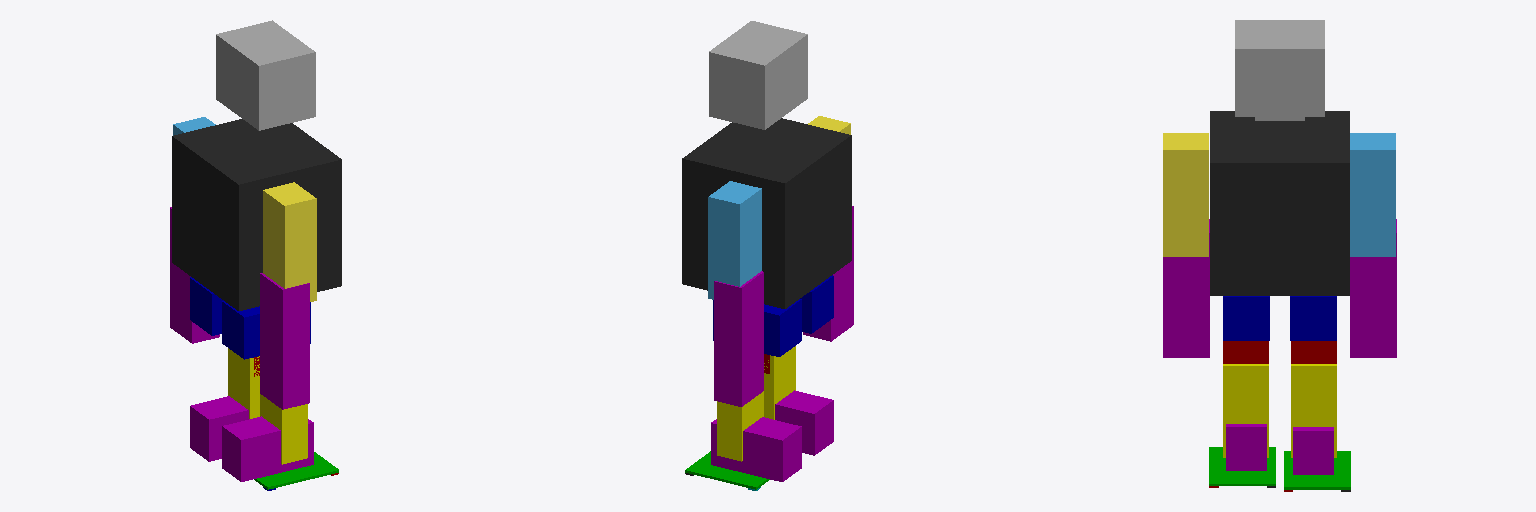
--- Facts derived from the render (not from the file) ---
The picture shows the robot from 3 angles, left to right: view 1: azimuth 30°, elevation 25°; view 2: azimuth 150°, elevation 25°; view 3: azimuth 270°, elevation 25°; orthographic projection.
Model soccerbot with 29 links and 28 joints (18 revolute, 10 fixed), rooted at /torso, posed all joints at 0.
Links seen in each view (by area): view 1: /torso, /head, /right_forearm, /right_bicep, /right_ankle, /left_ankle, /right_calve, /right_hip_front, /left_forearm, /left_calve, /left_hip_front, /right_foot; view 2: /torso, /head, /left_forearm, /left_bicep, /left_ankle, /right_ankle, /left_calve, /left_hip_front, /right_forearm, /right_calve, /right_hip_front, /left_foot; view 3: /torso, /head, /left_bicep, /right_bicep, /left_forearm, /right_forearm, /left_calve, /right_calve, /left_hip_front, /right_hip_front, /left_ankle, /right_ankle (+4 smaller).
Link boxes in pixels (x1,y1,x2,y2): /torso: (172, 119, 341, 310); /head: (216, 20, 315, 130); /right_forearm: (260, 273, 309, 409); /right_bicep: (263, 182, 316, 301); /right_ankle: (222, 416, 313, 481); /left_ankle: (190, 396, 248, 461); /right_calve: (260, 394, 307, 464); /right_hip_front: (222, 301, 310, 359); /left_forearm: (170, 207, 219, 343); /left_calve: (228, 348, 259, 418); /left_hip_front: (190, 277, 223, 335); /right_foot: (254, 452, 338, 489); /torso: (682, 118, 851, 308); /head: (709, 21, 807, 129); /left_forearm: (714, 271, 763, 406); /left_bicep: (708, 181, 761, 299); /left_ankle: (711, 417, 801, 481); /right_ankle: (775, 390, 833, 455); /left_calve: (717, 391, 763, 461); /left_hip_front: (713, 299, 801, 356); /right_forearm: (803, 206, 853, 341); /right_calve: (764, 346, 795, 419); /right_hip_front: (800, 275, 833, 333); /left_foot: (685, 451, 769, 489); /torso: (1210, 111, 1349, 295); /head: (1235, 20, 1324, 116); /left_bicep: (1350, 133, 1395, 256); /right_bicep: (1163, 133, 1208, 256); /left_forearm: (1350, 219, 1396, 357); /right_forearm: (1163, 219, 1209, 357); /left_calve: (1291, 364, 1336, 457); /right_calve: (1223, 364, 1268, 457); /left_hip_front: (1290, 296, 1336, 340); /right_hip_front: (1223, 296, 1269, 340); /left_ankle: (1293, 427, 1333, 474); /right_ankle: (1226, 424, 1266, 470).
Bounding box of the posed robot: 0.13 × 0.245 × 0.5022 m (x, y, z).
Geometry: primitives only (box / cylinder / sphere), no mesh files.

The robot description file, URDF, robot "soccerbot":
<?xml version="1.0" ?>
<!-- =================================================================================== -->
<!-- |    This document was autogenerated by xacro from models/soccerbot.xacro         | -->
<!-- |    EDITING THIS FILE BY HAND IS NOT RECOMMENDED                                 | -->
<!-- =================================================================================== -->
<robot name="soccerbot">
  <material name="silver">
    <color rgba="0.7 0.7 0.7 1.0"/>
  </material>
  <material name="yellow">
    <color rgba="0.9 0.9 0.0 1.0"/>
  </material>
  <material name="red">
    <color rgba="0.7 0.0 0.0 1.0"/>
  </material>
  <material name="green">
    <color rgba="0.0 0.7 0.0 1.0"/>
  </material>
  <material name="blue">
    <color rgba="0.0 0.0 0.7 1.0"/>
  </material>
  <material name="purple">
    <color rgba="0.7 0.0 0.7 1.0"/>
  </material>
  <material name="cyan">
    <color rgba="0.0 0.7 0.7 1.0"/>
  </material>
  <material name="black">
    <color rgba="0.2 0.2 0.2 1.0"/>
  </material>
  <link name="/torso">
    <inertial>
      <mass value="1.529"/>
      <origin rpy="0 0 0" xyz="0.0082498 -0.0017440 -0.0522479"/>
      <inertia ixx="4.323e-3" ixy="5.549e-6" ixz="3.960e-5" iyy="5.198e-3" iyz="-1.509e-5" izz="3.567e-3"/>
    </inertial>
    <collision name="collision">
      <origin rpy="0 0 0" xyz="0 0 -0.052"/>
      <geometry>
        <box size="0.130 0.145 0.152"/>
      </geometry>
    </collision>
    <visual name="visual">
      <origin rpy="0 0 0" xyz="0 0 -0.052"/>
      <geometry>
        <box size="0.130 0.145 0.152"/>
      </geometry>
      <material name="black"/>
    </visual>
  </link>
  <link name="/left_bicep">
    <inertial>
      <mass value="0.000213"/>
      <origin rpy="0  0  0" xyz="0.000 0.02579 -0.04955"/>
      <inertia ixx="2.824e-4" ixy="0.000" ixz="0.0" iyy="2.744e-4" iyz="1.165e-05" izz="2.433e-5"/>
    </inertial>
    <collision name="collision">
      <origin rpy="0  0  0" xyz="0 0.0245 -0.05001"/>
      <geometry>
        <box size="0.04 0.04776 0.123"/>
      </geometry>
    </collision>
    <visual name="visual">
      <origin rpy="0  0  0" xyz="0 0.0245 -0.05001"/>
      <geometry>
        <box size="0.04 0.04776 0.123"/>
      </geometry>
      <material name="white"/>
    </visual>
  </link>
  <link name="/left_forearm">
    <inertial>
      <mass value="45.7e-3"/>
      <origin rpy="0  0  0" xyz="0 0.0245 -0.0546097"/>
      <inertia ixx="0.113e-3" ixy="0.000" ixz="1e-06" iyy="0.107e-3" iyz="0.0" izz="0.012e-3"/>
    </inertial>
    <collision name="collision">
      <origin rpy="0  0  0" xyz="-0.0055 0.0255 -0.0600"/>
      <geometry>
        <box size="0.035 0.049 0.144"/>
      </geometry>
    </collision>
    <visual name="visual">
      <origin rpy="0  0  0" xyz="-0.0055 0.0255 -0.0600"/>
      <geometry>
        <box size="0.035 0.049 0.144"/>
      </geometry>
      <material name="purple"/>
    </visual>
  </link>
  <joint name="left_arm_motor_0" type="revolute">
    <parent link="/torso"/>
    <child link="/left_bicep"/>
    <origin rpy="0 0 0" xyz="-0.0157 0.0725 0"/>
    <axis xyz="0 -1 0"/>
    <dynamics damping="0.01" friction="0.1"/>
    <limit effort="1.5" lower="-1.5707963267948966" upper="3.9269908169872414" velocity="1"/>
  </joint>
  <joint name="left_arm_motor_1" type="revolute">
    <parent link="/left_bicep"/>
    <child link="/left_forearm"/>
    <origin rpy="0 0 0" xyz="0 0 -0.10"/>
    <axis xyz="0 -1 0"/>
    <dynamics damping="0.01" friction="0.1"/>
    <limit effort="1.5" lower="0" upper="3.141592653589793" velocity="1"/>
  </joint>
  <gazebo reference="/left_forearm">
    <mu1>0.2</mu1>
    <mu2>0.2</mu2>
  </gazebo>
  <transmission name="left_arm_motor_0">
    <type>transmission_interface/SimpleTransmission</type>
    <joint name="left_arm_motor_0">
      <hardwareInterface>hardware_interface/EffortJointInterface</hardwareInterface>
    </joint>
    <actuator name="left_arm_motor_0">
      <hardwareInterface>hardware_interface/EffortJointInterface</hardwareInterface>
      <mechanicalReduction>1</mechanicalReduction>
    </actuator>
  </transmission>
  <transmission name="left_arm_motor_1">
    <type>transmission_interface/SimpleTransmission</type>
    <joint name="left_arm_motor_1">
      <hardwareInterface>hardware_interface/EffortJointInterface</hardwareInterface>
    </joint>
    <actuator name="left_arm_motor_1">
      <hardwareInterface>hardware_interface/EffortJointInterface</hardwareInterface>
      <mechanicalReduction>1</mechanicalReduction>
    </actuator>
  </transmission>
  <gazebo reference="/left_bicep">
    <kp>1000000000000000.0</kp>
    <kd>10000000000000.0</kd>
    <mu1>0.2</mu1>
    <mu2>0.2</mu2>
  </gazebo>
  <gazebo reference="/left_forearm">
    <kp>1000000000000000.0</kp>
    <kd>10000000000000.0</kd>
    <mu1>0.2</mu1>
    <mu2>0.2</mu2>
  </gazebo>
  <link name="/right_bicep">
    <inertial>
      <mass value="0.213e-3"/>
      <origin rpy="0  0  0" xyz="0.000 -0.02579 -0.04955"/>
      <inertia ixx="2.824e-4" ixy="0.000" ixz="-0.0" iyy="2.744e-4" iyz="-1.165e-05" izz="2.433e-5"/>
    </inertial>
    <collision name="collision">
      <origin rpy="0  0  0" xyz="0 -0.0255 -0.05001"/>
      <geometry>
        <box size="0.04 0.04776 0.123"/>
      </geometry>
    </collision>
    <visual name="visual">
      <origin rpy="0  0  0" xyz="0 -0.0255 -0.05001"/>
      <geometry>
        <box size="0.04 0.04776 0.123"/>
      </geometry>
      <material name="white"/>
    </visual>
  </link>
  <link name="/right_forearm">
    <inertial>
      <mass value="45.7e-3"/>
      <origin rpy="0  0  0" xyz="0 -0.0245 -0.0546097"/>
      <inertia ixx="0.113e-3" ixy="0.000" ixz="-1e-06" iyy="0.107e-3" iyz="-0.0" izz="0.012e-3"/>
    </inertial>
    <collision name="collision">
      <origin rpy="0  0  0" xyz="-0.0055 -0.0255 -0.0600"/>
      <geometry>
        <box size="0.035 0.049 0.144"/>
      </geometry>
    </collision>
    <visual name="visual">
      <origin rpy="0  0  0" xyz="-0.0055 -0.0255 -0.0600"/>
      <geometry>
        <box size="0.035 0.049 0.144"/>
      </geometry>
      <material name="purple"/>
    </visual>
  </link>
  <joint name="right_arm_motor_0" type="revolute">
    <parent link="/torso"/>
    <child link="/right_bicep"/>
    <origin rpy="0 0 0" xyz="-0.0157 -0.0725 0"/>
    <axis xyz="0 -1 0"/>
    <dynamics damping="0.01" friction="0.1"/>
    <limit effort="1.5" lower="-1.5707963267948966" upper="3.9269908169872414" velocity="1"/>
  </joint>
  <joint name="right_arm_motor_1" type="revolute">
    <parent link="/right_bicep"/>
    <child link="/right_forearm"/>
    <origin rpy="0 0 0" xyz="0 0 -0.10"/>
    <axis xyz="0 -1 0"/>
    <dynamics damping="0.01" friction="0.1"/>
    <limit effort="1.5" lower="0" upper="3.141592653589793" velocity="1"/>
  </joint>
  <gazebo reference="/right_forearm">
    <mu1>0.2</mu1>
    <mu2>0.2</mu2>
  </gazebo>
  <transmission name="right_arm_motor_0">
    <type>transmission_interface/SimpleTransmission</type>
    <joint name="right_arm_motor_0">
      <hardwareInterface>hardware_interface/EffortJointInterface</hardwareInterface>
    </joint>
    <actuator name="right_arm_motor_0">
      <hardwareInterface>hardware_interface/EffortJointInterface</hardwareInterface>
      <mechanicalReduction>1</mechanicalReduction>
    </actuator>
  </transmission>
  <transmission name="right_arm_motor_1">
    <type>transmission_interface/SimpleTransmission</type>
    <joint name="right_arm_motor_1">
      <hardwareInterface>hardware_interface/EffortJointInterface</hardwareInterface>
    </joint>
    <actuator name="right_arm_motor_1">
      <hardwareInterface>hardware_interface/EffortJointInterface</hardwareInterface>
      <mechanicalReduction>1</mechanicalReduction>
    </actuator>
  </transmission>
  <gazebo reference="/right_bicep">
    <kp>1000000000000000.0</kp>
    <kd>10000000000000.0</kd>
    <mu1>0.2</mu1>
    <mu2>0.2</mu2>
  </gazebo>
  <gazebo reference="/right_forearm">
    <kp>1000000000000000.0</kp>
    <kd>10000000000000.0</kd>
    <mu1>0.2</mu1>
    <mu2>0.2</mu2>
  </gazebo>
  <link name="/left_hip_side">
    <inertial>
      <mass value="9.364e-3"/>
      <origin rpy="0  0  0" xyz="0.0003695 0.0000 0.01689"/>
      <inertia ixx="0.002e-3" ixy="0.000" ixz="0.000" iyy="0.005e-3" iyz="0.000" izz="0.004e-3"/>
    </inertial>
    <collision name="collision">
      <origin rpy="0  0  0" xyz="0 0 0.03"/>
      <geometry>
        <box size="0.0485 0.022 0.00005"/>
      </geometry>
    </collision>
    <visual name="visual">
      <origin rpy="0  0  0" xyz="0 0 0.03"/>
      <geometry>
        <box size="0.0485 0.022 0.00005"/>
      </geometry>
      <material name="cyan"/>
    </visual>
  </link>
  <link name="/left_hip_front">
    <inertial>
      <mass value="153.186e-3"/>
      <origin rpy="0 0 0" xyz="-0.02093 0 -0.011313"/>
      <inertia ixx="0.041e-3" ixy="0.000" ixz="-0.002e-3" iyy="0.118e-3" iyz="0.000" izz="0.106e-3"/>
    </inertial>
    <collision name="collision">
      <origin rpy="0 0 0" xyz="-0.02187 0 -0.01332"/>
      <geometry>
        <box size="0.083747 0.04885 0.0506"/>
      </geometry>
    </collision>
    <visual name="visual">
      <origin rpy="0 0 0" xyz="-0.02187 0 -0.01332"/>
      <geometry>
        <box size="0.083747 0.04885 0.0506"/>
      </geometry>
      <material name="blue"/>
    </visual>
  </link>
  <link name="/left_thigh">
    <inertial>
      <mass value="21.438e-3"/>
      <origin rpy="0 0 0" xyz="0.0019422 0.0001419 -0.0469409"/>
      <inertia ixx="0.025e-3" ixy="2e-06" ixz="0.000" iyy="0.016e-3" iyz="0.000" izz="0.010e-3"/>
    </inertial>
    <collision name="collision">
      <origin rpy="0 0 0" xyz="0 0 -0.0445"/>
      <geometry>
        <box size="0.022 0.048 0.111"/>
      </geometry>
    </collision>
    <visual name="visual">
      <origin rpy="0 0 0" xyz="0 0 -0.0445"/>
      <geometry>
        <box size="0.022 0.048 0.111"/>
      </geometry>
      <material name="red"/>
    </visual>
  </link>
  <link name="/left_calve">
    <inertial>
      <mass value="86.547e-3"/>
      <origin rpy="0  0  0" xyz="0 -3.259e-07 -0.0150123e-3"/>
      <inertia ixx="0.054e-3" ixy="0.000" ixz="0.000" iyy="0.046e-3" iyz="-0.001e-3" izz="0.019e-3"/>
    </inertial>
    <collision name="collision">
      <origin rpy="0 0 0" xyz="0 0 -0.03385"/>
      <geometry>
        <box size="0.031883 0.048 0.105683"/>
      </geometry>
    </collision>
    <visual name="visual">
      <origin rpy="0 0 0" xyz="0 0 -0.03385"/>
      <geometry>
        <box size="0.031883 0.048 0.105683"/>
      </geometry>
      <material name="yellow"/>
    </visual>
  </link>
  <link name="/left_ankle">
    <inertial>
      <mass value="153.186e-3"/>
      <origin rpy="0 0 0" xyz="-0.020939e-3 0.000 0.011313e-3"/>
      <inertia ixx="0.041e-3" ixy="0.000" ixz="0.002e-3" iyy="0.118e-3" iyz="0.000" izz="0.106e-3"/>
    </inertial>
    <collision name="collision">
      <origin rpy="0 0 0" xyz="-0.02014 0 0.01031"/>
      <geometry>
        <box size="0.090769 0.042 0.0506"/>
      </geometry>
    </collision>
    <visual name="visual">
      <origin rpy="0 0 0" xyz="-0.02014 0 0.01031"/>
      <geometry>
        <box size="0.090769 0.042 0.0506"/>
      </geometry>
      <material name="purple"/>
    </visual>
  </link>
  <link name="/left_foot">
    <inertial>
      <mass value="23.216e-3"/>
      <origin rpy="0 0 0" xyz="-0.020939 0.0 0.011313"/>
      <inertia ixx="0.006e-3" ixy="0.000" ixz="0.000" iyy="0.018e-3" iyz="0.000" izz="0.022e-3"/>
    </inertial>
    <collision name="collision">
      <origin rpy="0 0 0" xyz="0.00225 0.00401 -0.0205 "/>
      <geometry>
        <box size="0.09 0.07 0.003"/>
      </geometry>
      <contact_coefficients mu="100.0"/>
    </collision>
    <visual name="visual">
      <origin rpy="0 0 0" xyz="0.00225 0.00401 -0.0205 "/>
      <geometry>
        <box size="0.09 0.07 0.003"/>
      </geometry>
      <material name="green"/>
    </visual>
  </link>
  <link name="/left_foot_cleat_4">
    <inertial>
      <mass value="5e-3"/>
      <origin rpy="0 0 0" xyz="-0.020939 0.0 0.011313"/>
      <inertia ixx="0" ixy="0.000" ixz="0.000" iyy="0" iyz="0.000" izz="0"/>
    </inertial>
    <collision name="collision">
      <origin rpy="0 0 0" xyz="0.04225 0.034 -0.023"/>
      <geometry>
        <box size="0.01 0.01 0.002"/>
      </geometry>
      <contact_coefficients mu="100.0"/>
    </collision>
    <visual name="visual">
      <origin rpy="0 0 0" xyz="0.04225 0.034 -0.023"/>
      <geometry>
        <box size="0.01 0.01 0.002"/>
      </geometry>
      <material name="black"/>
    </visual>
  </link>
  <link name="/left_foot_cleat_5">
    <inertial>
      <mass value="5e-3"/>
      <origin rpy="0 0 0" xyz="-0.020939 0.0 0.011313"/>
      <inertia ixx="0" ixy="0.000" ixz="0.000" iyy="0" iyz="0.000" izz="0"/>
    </inertial>
    <collision name="collision">
      <origin rpy="0 0 0" xyz="0.04225 -0.026 -0.023"/>
      <geometry>
        <box size="0.01 0.01 0.002"/>
      </geometry>
      <contact_coefficients mu="100.0"/>
    </collision>
    <visual name="visual">
      <origin rpy="0 0 0" xyz="0.04225 -0.026 -0.023"/>
      <geometry>
        <box size="0.01 0.01 0.002"/>
      </geometry>
      <material name="red"/>
    </visual>
  </link>
  <link name="/left_foot_cleat_6">
    <inertial>
      <mass value="5e-3"/>
      <origin rpy="0 0 0" xyz="-0.020939 0.0 0.011313"/>
      <inertia ixx="0" ixy="0.000" ixz="0.000" iyy="0" iyz="0.000" izz="0"/>
    </inertial>
    <collision name="collision">
      <origin rpy="0 0 0" xyz="-0.0375 0.034 -0.023"/>
      <geometry>
        <box size="0.01 0.01 0.002"/>
      </geometry>
      <contact_coefficients mu="100.0"/>
    </collision>
    <visual name="visual">
      <origin rpy="0 0 0" xyz="-0.0375 0.034 -0.023"/>
      <geometry>
        <box size="0.01 0.01 0.002"/>
      </geometry>
      <material name="cyan"/>
    </visual>
  </link>
  <link name="/left_foot_cleat_7">
    <inertial>
      <mass value="5e-3"/>
      <origin rpy="0 0 0" xyz="-0.020939 0.0 0.011313"/>
      <inertia ixx="0" ixy="0.000" ixz="0.000" iyy="0" iyz="0.000" izz="0"/>
    </inertial>
    <collision name="collision">
      <origin rpy="0 0 0" xyz="-0.0375 -0.026 -0.023"/>
      <geometry>
        <box size="0.01 0.01 0.002"/>
      </geometry>
      <contact_coefficients mu="100.0"/>
    </collision>
    <visual name="visual">
      <origin rpy="0 0 0" xyz="-0.0375 -0.026 -0.023"/>
      <geometry>
        <box size="0.01 0.01 0.002"/>
      </geometry>
      <material name="blue"/>
    </visual>
  </link>
  <joint name="left_leg_motor_0" type="revolute">
    <parent link="/torso"/>
    <child link="/left_hip_side"/>
    <origin rpy="0 0 0" xyz="0.0135 0.035 -0.156"/>
    <axis xyz="0 0 -1"/>
    <dynamics damping="0.01" friction="0.1"/>
    <limit effort="2.5" lower="-1.309" upper="0.524" velocity="1"/>
  </joint>
  <joint name="left_leg_motor_1" type="revolute">
    <parent link="/left_hip_side"/>
    <child link="/left_hip_front"/>
    <origin rpy="0 0 0" xyz="0 0 0"/>
    <axis xyz="1 0 0"/>
    <dynamics damping="0.01" friction="0.1"/>
    <limit effort="2.5" lower="-0.7853981633974483" upper="1.5707963267948966" velocity="1"/>
  </joint>
  <joint name="left_leg_motor_2" type="revolute">
    <parent link="/left_hip_front"/>
    <child link="/left_thigh"/>
    <origin rpy="0 0 0" xyz="0 0 0"/>
    <axis xyz="0 -1 0"/>
    <dynamics damping="0.01" friction="0.1"/>
    <limit effort="2.5" lower="-0.7853981633974483" upper="2.356194490192345" velocity="1"/>
  </joint>
  <joint name="left_leg_motor_3" type="revolute">
    <parent link="/left_thigh"/>
    <child link="/left_calve"/>
    <origin rpy="0 0 0" xyz="0 0 -0.0890"/>
    <axis xyz="0 -1 0"/>
    <dynamics damping="0.01" friction="0.1"/>
    <limit effort="2.5" lower="-2.793" upper="0" velocity="1"/>
  </joint>
  <joint name="left_leg_motor_4" type="revolute">
    <parent link="/left_calve"/>
    <child link="/left_ankle"/>
    <origin rpy="0 0 0" xyz="0 0 -0.0865"/>
    <axis xyz="0 -1 0"/>
    <dynamics damping="0.01" friction="0.1"/>
    <limit effort="2.5" lower="-0.7853981633974483" upper="1.5707963267948966" velocity="1"/>
  </joint>
  <joint name="left_leg_motor_5" type="revolute">
    <parent link="/left_ankle"/>
    <child link="/left_foot"/>
    <origin rpy="0 0 0" xyz="0 0 0"/>
    <axis xyz="1 0 0"/>
    <dynamics damping="0.01" friction="0.1"/>
    <limit effort="2.5" lower="-0.7853981633974483" upper="0.7853981633974483" velocity="1"/>
  </joint>
  <joint name="/left_foot_cleat_4" type="fixed">
    <parent link="/left_foot"/>
    <child link="/left_foot_cleat_4"/>
    <origin rpy="0 0 0" xyz="0.0 0 0.0"/>
    <axis xyz="0 0 0"/>
  </joint>
  <joint name="/left_foot_cleat_5" type="fixed">
    <parent link="/left_foot"/>
    <child link="/left_foot_cleat_5"/>
    <origin rpy="0 0 0" xyz="0.0 0 0.0"/>
    <axis xyz="0 0 0"/>
  </joint>
  <joint name="/left_foot_cleat_6" type="fixed">
    <parent link="/left_foot"/>
    <child link="/left_foot_cleat_6"/>
    <origin rpy="0 0 0" xyz="0.0 0 0.0"/>
    <axis xyz="0 0 0"/>
  </joint>
  <joint name="/left_foot_cleat_7" type="fixed">
    <parent link="/left_foot"/>
    <child link="/left_foot_cleat_7"/>
    <origin rpy="0 0 0" xyz="0.0 0 0.0"/>
    <axis xyz="0 0 0"/>
  </joint>
  <transmission name="left_leg_motor_0">
    <type>transmission_interface/SimpleTransmission</type>
    <joint name="left_leg_motor_0">
      <hardwareInterface>hardware_interface/EffortJointInterface</hardwareInterface>
    </joint>
    <actuator name="left_leg_motor_0">
      <hardwareInterface>hardware_interface/EffortJointInterface</hardwareInterface>
      <mechanicalReduction>1</mechanicalReduction>
    </actuator>
  </transmission>
  <transmission name="left_leg_motor_1">
    <type>transmission_interface/SimpleTransmission</type>
    <joint name="left_leg_motor_1">
      <hardwareInterface>hardware_interface/EffortJointInterface</hardwareInterface>
    </joint>
    <actuator name="left_leg_motor_1">
      <hardwareInterface>hardware_interface/EffortJointInterface</hardwareInterface>
      <mechanicalReduction>1</mechanicalReduction>
    </actuator>
  </transmission>
  <transmission name="left_leg_motor_2">
    <type>transmission_interface/SimpleTransmission</type>
    <joint name="left_leg_motor_2">
      <hardwareInterface>hardware_interface/EffortJointInterface</hardwareInterface>
    </joint>
    <actuator name="left_leg_motor_2">
      <hardwareInterface>hardware_interface/EffortJointInterface</hardwareInterface>
      <mechanicalReduction>1</mechanicalReduction>
    </actuator>
  </transmission>
  <transmission name="left_leg_motor_3">
    <type>transmission_interface/SimpleTransmission</type>
    <joint name="left_leg_motor_3">
      <hardwareInterface>hardware_interface/EffortJointInterface</hardwareInterface>
    </joint>
    <actuator name="left_leg_motor_3">
      <hardwareInterface>hardware_interface/EffortJointInterface</hardwareInterface>
      <mechanicalReduction>1</mechanicalReduction>
    </actuator>
  </transmission>
  <transmission name="left_leg_motor_4">
    <type>transmission_interface/SimpleTransmission</type>
    <joint name="left_leg_motor_4">
      <hardwareInterface>hardware_interface/EffortJointInterface</hardwareInterface>
    </joint>
    <actuator name="left_leg_motor_4">
      <hardwareInterface>hardware_interface/EffortJointInterface</hardwareInterface>
      <mechanicalReduction>1</mechanicalReduction>
    </actuator>
  </transmission>
  <transmission name="left_leg_motor_5">
    <type>transmission_interface/SimpleTransmission</type>
    <joint name="left_leg_motor_5">
      <hardwareInterface>hardware_interface/EffortJointInterface</hardwareInterface>
    </joint>
    <actuator name="left_leg_motor_5">
      <hardwareInterface>hardware_interface/EffortJointInterface</hardwareInterface>
      <mechanicalReduction>1</mechanicalReduction>
    </actuator>
  </transmission>
  <gazebo reference="/left_hip_side">
    <kp>1000000000000000.0</kp>
    <kd>10000000000000.0</kd>
    <mu1>0.2</mu1>
    <mu2>0.2</mu2>
  </gazebo>
  <gazebo reference="/left_hip_front">
    <kp>1000000000000000.0</kp>
    <kd>10000000000000.0</kd>
    <mu1>0.2</mu1>
    <mu2>0.2</mu2>
  </gazebo>
  <gazebo reference="/left_thigh">
    <kp>1000000000000000.0</kp>
    <kd>10000000000000.0</kd>
    <mu1>0.2</mu1>
    <mu2>0.2</mu2>
  </gazebo>
  <gazebo reference="/left_calve">
    <kp>1000000000000000.0</kp>
    <kd>10000000000000.0</kd>
    <mu1>0.2</mu1>
    <mu2>0.2</mu2>
  </gazebo>
  <gazebo reference="/left_ankle">
    <kp>1000000000000000.0</kp>
    <kd>10000000000000.0</kd>
    <mu1>0.2</mu1>
    <mu2>0.2</mu2>
  </gazebo>
  <gazebo reference="/left_foot">
    <mu1>0.2</mu1>
    <mu2>0.2</mu2>
  </gazebo>
  <link name="/right_hip_side">
    <inertial>
      <mass value="9.364e-3"/>
      <origin rpy="0  0  0" xyz="0.0003695 0.0000 0.01689"/>
      <inertia ixx="0.002e-3" ixy="0.000" ixz="0.000" iyy="0.005e-3" iyz="0.000" izz="0.004e-3"/>
    </inertial>
    <collision name="collision">
      <origin rpy="0  0  0" xyz="0 0 0.03"/>
      <geometry>
        <box size="0.0485 0.022 0.00005"/>
      </geometry>
    </collision>
    <visual name="visual">
      <origin rpy="0  0  0" xyz="0 0 0.03"/>
      <geometry>
        <box size="0.0485 0.022 0.00005"/>
      </geometry>
      <material name="cyan"/>
    </visual>
  </link>
  <link name="/right_hip_front">
    <inertial>
      <mass value="153.186e-3"/>
      <origin rpy="0 0 0" xyz="-0.02093 0 -0.011313"/>
      <inertia ixx="0.041e-3" ixy="0.000" ixz="-0.002e-3" iyy="0.118e-3" iyz="0.000" izz="0.106e-3"/>
    </inertial>
    <collision name="collision">
      <origin rpy="0 0 0" xyz="-0.02187 0 -0.01332"/>
      <geometry>
        <box size="0.083747 0.04885 0.0506"/>
      </geometry>
    </collision>
    <visual name="visual">
      <origin rpy="0 0 0" xyz="-0.02187 0 -0.01332"/>
      <geometry>
        <box size="0.083747 0.04885 0.0506"/>
      </geometry>
      <material name="blue"/>
    </visual>
  </link>
  <link name="/right_thigh">
    <inertial>
      <mass value="21.438e-3"/>
      <origin rpy="0 0 0" xyz="0.0019422 -0.0001419 -0.0469409"/>
      <inertia ixx="0.025e-3" ixy="-2e-06" ixz="0.000" iyy="0.016e-3" iyz="0.000" izz="0.010e-3"/>
    </inertial>
    <collision name="collision">
      <origin rpy="0 0 0" xyz="0 0 -0.0445"/>
      <geometry>
        <box size="0.022 0.048 0.111"/>
      </geometry>
    </collision>
    <visual name="visual">
      <origin rpy="0 0 0" xyz="0 0 -0.0445"/>
      <geometry>
        <box size="0.022 0.048 0.111"/>
      </geometry>
      <material name="red"/>
    </visual>
  </link>
  <link name="/right_calve">
    <inertial>
      <mass value="86.547e-3"/>
      <origin rpy="0  0  0" xyz="0 3.259e-07 -0.0150123e-3"/>
      <inertia ixx="0.054e-3" ixy="0.000" ixz="0.000" iyy="0.046e-3" iyz="-0.001e-3" izz="0.019e-3"/>
    </inertial>
    <collision name="collision">
      <origin rpy="0 0 0" xyz="0 0 -0.03385"/>
      <geometry>
        <box size="0.031883 0.048 0.105683"/>
      </geometry>
    </collision>
    <visual name="visual">
      <origin rpy="0 0 0" xyz="0 0 -0.03385"/>
      <geometry>
        <box size="0.031883 0.048 0.105683"/>
      </geometry>
      <material name="yellow"/>
    </visual>
  </link>
  <link name="/right_ankle">
    <inertial>
      <mass value="153.186e-3"/>
      <origin rpy="0 0 0" xyz="-0.020939e-3 0.000 0.011313e-3"/>
      <inertia ixx="0.041e-3" ixy="0.000" ixz="0.002e-3" iyy="0.118e-3" iyz="0.000" izz="0.106e-3"/>
    </inertial>
    <collision name="collision">
      <origin rpy="0 0 0" xyz="-0.02014 0 0.01031"/>
      <geometry>
        <box size="0.090769 0.042 0.0506"/>
      </geometry>
    </collision>
    <visual name="visual">
      <origin rpy="0 0 0" xyz="-0.02014 0 0.01031"/>
      <geometry>
        <box size="0.090769 0.042 0.0506"/>
      </geometry>
      <material name="purple"/>
    </visual>
  </link>
  <link name="/right_foot">
    <inertial>
      <mass value="23.216e-3"/>
      <origin rpy="0 0 0" xyz="-0.020939 0.0 0.011313"/>
      <inertia ixx="0.006e-3" ixy="0.000" ixz="0.000" iyy="0.018e-3" iyz="0.000" izz="0.022e-3"/>
    </inertial>
    <collision name="collision">
      <origin rpy="0 0 0" xyz="0.00225 -0.00401 -0.0205 "/>
      <geometry>
        <box size="0.09 0.07 0.003"/>
      </geometry>
      <contact_coefficients mu="100.0"/>
    </collision>
    <visual name="visual">
      <origin rpy="0 0 0" xyz="0.00225 -0.00401 -0.0205 "/>
      <geometry>
        <box size="0.09 0.07 0.003"/>
      </geometry>
      <material name="green"/>
    </visual>
  </link>

  <link name="/right_foot_cleat_0">
    <inertial>
      <mass value="5e-3"/>
      <origin rpy="0 0 0" xyz="-0.020939 0.0 0.011313"/>
      <inertia ixx="0" ixy="0.000" ixz="0.000" iyy="0" iyz="0.000" izz="0"/>
    </inertial>
    <collision name="collision">
      <origin rpy="0 0 0" xyz="0.04225 0.026 -0.023"/>
      <geometry>
        <box size="0.01 0.01 0.002"/>
      </geometry>
      <contact_coefficients mu="100.0"/>
    </collision>
    <visual name="visual">
      <origin rpy="0 0 0" xyz="0.04225 0.026 -0.023"/>
      <geometry>
        <box size="0.01 0.01 0.002"/>
      </geometry>
      <material name="black"/>
    </visual>
  </link>
  <link name="/right_foot_cleat_1">
    <inertial>
      <mass value="5e-3"/>
      <origin rpy="0 0 0" xyz="-0.020939 0.0 0.011313"/>
      <inertia ixx="0" ixy="0.000" ixz="0.000" iyy="0" iyz="0.000" izz="0"/>
    </inertial>
    <collision name="collision">
      <origin rpy="0 0 0" xyz="0.04225 -0.034 -0.023"/>
      <geometry>
        <box size="0.01 0.01 0.002"/>
      </geometry>
      <contact_coefficients mu="100.0"/>
    </collision>
    <visual name="visual">
      <origin rpy="0 0 0" xyz="0.04225 -0.034 -0.023"/>
      <geometry>
        <box size="0.01 0.01 0.002"/>
      </geometry>
      <material name="red"/>
    </visual>
  </link>
  <link name="/right_foot_cleat_2">
    <inertial>
      <mass value="5e-3"/>
      <origin rpy="0 0 0" xyz="-0.020939 0.0 0.011313"/>
      <inertia ixx="0" ixy="0.000" ixz="0.000" iyy="0" iyz="0.000" izz="0"/>
    </inertial>
    <collision name="collision">
      <origin rpy="0 0 0" xyz="-0.0375 0.026 -0.023"/>
      <geometry>
        <box size="0.01 0.01 0.002"/>
      </geometry>
      <contact_coefficients mu="100.0"/>
    </collision>
    <visual name="visual">
      <origin rpy="0 0 0" xyz="-0.0375 0.026 -0.023"/>
      <geometry>
        <box size="0.01 0.01 0.002"/>
      </geometry>
      <material name="cyan"/>
    </visual>
  </link>
  <link name="/right_foot_cleat_3">
    <inertial>
      <mass value="5e-3"/>
      <origin rpy="0 0 0" xyz="-0.020939 0.0 0.011313"/>
      <inertia ixx="0" ixy="0.000" ixz="0.000" iyy="0" iyz="0.000" izz="0"/>
    </inertial>
    <collision name="collision">
      <origin rpy="0 0 0" xyz="-0.0375 -0.034 -0.023"/>
      <geometry>
        <box size="0.01 0.01 0.002"/>
      </geometry>
      <contact_coefficients mu="100.0"/>
    </collision>
    <visual name="visual">
      <origin rpy="0 0 0" xyz="-0.0375 -0.034 -0.023"/>
      <geometry>
        <box size="0.01 0.01 0.002"/>
      </geometry>
      <material name="blue"/>
    </visual>
  </link>
  <joint name="right_leg_motor_0" type="revolute">
    <parent link="/torso"/>
    <child link="/right_hip_side"/>
    <origin rpy="0 0 0" xyz="0.0135 -0.035 -0.156"/>
    <axis xyz="0 0 1"/>
    <dynamics damping="0.01" friction="0.1"/>
    <limit effort="2.5" lower="-1.309" upper="0.524" velocity="1"/>
  </joint>
  <joint name="right_leg_motor_1" type="revolute">
    <parent link="/right_hip_side"/>
    <child link="/right_hip_front"/>
    <origin rpy="0 0 0" xyz="0 0 0"/>
    <axis xyz="-1 0 0"/>
    <dynamics damping="0.01" friction="0.1"/>
    <limit effort="2.5" lower="-0.7853981633974483" upper="1.5707963267948966" velocity="1"/>
  </joint>
  <joint name="right_leg_motor_2" type="revolute">
    <parent link="/right_hip_front"/>
    <child link="/right_thigh"/>
    <origin rpy="0 0 0" xyz="0 0 0"/>
    <axis xyz="0 -1 0"/>
    <dynamics damping="0.01" friction="0.1"/>
    <limit effort="2.5" lower="-0.7853981633974483" upper="2.356194490192345" velocity="1"/>
  </joint>
  <joint name="right_leg_motor_3" type="revolute">
    <parent link="/right_thigh"/>
    <child link="/right_calve"/>
    <origin rpy="0 0 0" xyz="0 0 -0.0890"/>
    <axis xyz="0 -1 0"/>
    <dynamics damping="0.01" friction="0.1"/>
    <limit effort="2.5" lower="-2.793" upper="0" velocity="1"/>
  </joint>
  <joint name="right_leg_motor_4" type="revolute">
    <parent link="/right_calve"/>
    <child link="/right_ankle"/>
    <origin rpy="0 0 0" xyz="0 0 -0.0827"/>
    <axis xyz="0 -1 0"/>
    <dynamics damping="0.01" friction="0.1"/>
    <limit effort="2.5" lower="-0.7853981633974483" upper="1.5707963267948966" velocity="1"/>
  </joint>
  <joint name="right_leg_motor_5" type="revolute">
    <parent link="/right_ankle"/>
    <child link="/right_foot"/>
    <origin rpy="0 0 0" xyz="0 0 0"/>
    <axis xyz="-1 0 0"/>
    <dynamics damping="0.01" friction="0.1"/>
    <limit effort="2.5" lower="-0.7853981633974483" upper="0.7853981633974483" velocity="1"/>
  </joint>
  <joint name="right_foot_cleat_0" type="fixed">
    <parent link="/right_foot"/>
    <child link="/right_foot_cleat_0"/>
    <origin rpy="0 0 0" xyz="0.0 0 0.0"/>
    <axis xyz="0 0 0"/>
  </joint>
  <joint name="right_foot_cleat_1" type="fixed">
    <parent link="/right_foot"/>
    <child link="/right_foot_cleat_1"/>
    <origin rpy="0 0 0" xyz="0.0 0 0.0"/>
    <axis xyz="0 0 0"/>
  </joint>
  <joint name="right_foot_cleat_2" type="fixed">
    <parent link="/right_foot"/>
    <child link="/right_foot_cleat_2"/>
    <origin rpy="0 0 0" xyz="0.0 0 0.0"/>
    <axis xyz="0 0 0"/>
  </joint>
  <joint name="right_foot_cleat_3" type="fixed">
    <parent link="/right_foot"/>
    <child link="/right_foot_cleat_3"/>
    <origin rpy="0 0 0" xyz="0.0 0 0.0"/>
    <axis xyz="0 0 0"/>
  </joint>
  <transmission name="right_leg_motor_0">
    <type>transmission_interface/SimpleTransmission</type>
    <joint name="right_leg_motor_0">
      <hardwareInterface>hardware_interface/EffortJointInterface</hardwareInterface>
    </joint>
    <actuator name="right_leg_motor_0">
      <hardwareInterface>hardware_interface/EffortJointInterface</hardwareInterface>
      <mechanicalReduction>1</mechanicalReduction>
    </actuator>
  </transmission>
  <transmission name="right_leg_motor_1">
    <type>transmission_interface/SimpleTransmission</type>
    <joint name="right_leg_motor_1">
      <hardwareInterface>hardware_interface/EffortJointInterface</hardwareInterface>
    </joint>
    <actuator name="right_leg_motor_1">
      <hardwareInterface>hardware_interface/EffortJointInterface</hardwareInterface>
      <mechanicalReduction>1</mechanicalReduction>
    </actuator>
  </transmission>
  <transmission name="right_leg_motor_2">
    <type>transmission_interface/SimpleTransmission</type>
    <joint name="right_leg_motor_2">
      <hardwareInterface>hardware_interface/EffortJointInterface</hardwareInterface>
    </joint>
    <actuator name="right_leg_motor_2">
      <hardwareInterface>hardware_interface/EffortJointInterface</hardwareInterface>
      <mechanicalReduction>1</mechanicalReduction>
    </actuator>
  </transmission>
  <transmission name="right_leg_motor_3">
    <type>transmission_interface/SimpleTransmission</type>
    <joint name="right_leg_motor_3">
      <hardwareInterface>hardware_interface/EffortJointInterface</hardwareInterface>
    </joint>
    <actuator name="right_leg_motor_3">
      <hardwareInterface>hardware_interface/EffortJointInterface</hardwareInterface>
      <mechanicalReduction>1</mechanicalReduction>
    </actuator>
  </transmission>
  <transmission name="right_leg_motor_4">
    <type>transmission_interface/SimpleTransmission</type>
    <joint name="right_leg_motor_4">
      <hardwareInterface>hardware_interface/EffortJointInterface</hardwareInterface>
    </joint>
    <actuator name="right_leg_motor_4">
      <hardwareInterface>hardware_interface/EffortJointInterface</hardwareInterface>
      <mechanicalReduction>1</mechanicalReduction>
    </actuator>
  </transmission>
  <transmission name="right_leg_motor_5">
    <type>transmission_interface/SimpleTransmission</type>
    <joint name="right_leg_motor_5">
      <hardwareInterface>hardware_interface/EffortJointInterface</hardwareInterface>
    </joint>
    <actuator name="right_leg_motor_5">
      <hardwareInterface>hardware_interface/EffortJointInterface</hardwareInterface>
      <mechanicalReduction>1</mechanicalReduction>
    </actuator>
  </transmission>
  <gazebo reference="/right_hip_side">
    <kp>1000000000000000.0</kp>
    <kd>10000000000000.0</kd>
    <mu1>0.2</mu1>
    <mu2>0.2</mu2>
  </gazebo>
  <gazebo reference="/right_hip_front">
    <kp>1000000000000000.0</kp>
    <kd>10000000000000.0</kd>
    <mu1>0.2</mu1>
    <mu2>0.2</mu2>
  </gazebo>
  <gazebo reference="/right_thigh">
    <kp>1000000000000000.0</kp>
    <kd>10000000000000.0</kd>
    <mu1>0.2</mu1>
    <mu2>0.2</mu2>
  </gazebo>
  <gazebo reference="/right_calve">
    <kp>1000000000000000.0</kp>
    <kd>10000000000000.0</kd>
    <mu1>0.2</mu1>
    <mu2>0.2</mu2>
  </gazebo>
  <gazebo reference="/right_ankle">
    <kp>1000000000000000.0</kp>
    <kd>10000000000000.0</kd>
    <mu1>0.2</mu1>
    <mu2>0.2</mu2>
  </gazebo>
  <gazebo reference="/right_foot">
    <mu1>0.2</mu1>
    <mu2>0.2</mu2>
  </gazebo>
  <link name="/neck">
    <inertial>
      <mass value="0.011294"/>
      <origin rpy="0  0  0" xyz="0 -0.0006476 0.0092453"/>
      <inertia ixx="5.489e-6" ixy="0" ixz="0" iyy="1.433e-6" iyz="0" izz="4.955e-6"/>
    </inertial>
    <collision name="collision">
      <origin rpy="0  0  0" xyz="0 0 0.0165"/>
      <geometry>
        <box size="0.022 0.0523 0.033"/>
      </geometry>
    </collision>
    <visual name="visual">
      <origin rpy="0  0  0" xyz="0 0 0.0165"/>
      <geometry>
        <box size="0.022 0.0523 0.033"/>
      </geometry>
      <material name="silver"/>
    </visual>
  </link>
  <link name="/head">
    <inertial>
      <mass value="0.282"/>
      <origin rpy="0  0  0" xyz="0.0237166 0.0018096 0.0255966"/>
      <inertia ixx="2.06e-4" ixy="1.06e-6" ixz="-5.73e-5" iyy="2.057e-4" iyz="2.534e-6" izz="1.603e-4"/>
    </inertial>
    <collision name="collision">
      <origin rpy="0  0  0" xyz="-0.013 0 0.025"/>
      <geometry>
        <box size="0.0712 0.094 0.0779"/>
      </geometry>
    </collision>
    <visual name="visual">
      <origin rpy="0  0  0" xyz="-0.013 0 0.025"/>
      <geometry>
        <box size="0.0712 0.094 0.0779"/>
      </geometry>
      <material name="silver"/>
    </visual>
  </link>
  <joint name="head_motor_0" type="revolute">
    <parent link="/torso"/>
    <child link="/neck"/>
    <origin rpy="0 0 0" xyz="0.024 0 0.05875"/>
    <axis xyz="0 0 1"/>
    <dynamics damping="0.01" friction="0.1"/>
    <limit effort="1.5" lower="-1.5707963267948966" upper="1.5707963267948966" velocity="1"/>
  </joint>
  <joint name="head_motor_1" type="revolute">
    <parent link="/neck"/>
    <child link="/head"/>
    <origin rpy="0 0 0" xyz="0 0 0.024"/>
    <axis xyz="0 1 0"/>
    <dynamics damping="0.01" friction="0.1"/>
    <limit effort="1.5" lower="-2.356194490192345" upper="2.356194490192345" velocity="1"/>
  </joint>
  <transmission name="head_motor_0">
    <type>transmission_interface/SimpleTransmission</type>
    <joint name="head_motor_0">
      <hardwareInterface>hardware_interface/EffortJointInterface</hardwareInterface>
    </joint>
    <actuator name="head_motor_0">
      <hardwareInterface>hardware_interface/EffortJointInterface</hardwareInterface>
      <mechanicalReduction>1</mechanicalReduction>
    </actuator>
  </transmission>
  <transmission name="head_motor_1">
    <type>transmission_interface/SimpleTransmission</type>
    <joint name="head_motor_1">
      <hardwareInterface>hardware_interface/EffortJointInterface</hardwareInterface>
    </joint>
    <actuator name="head_motor_1">
      <hardwareInterface>hardware_interface/EffortJointInterface</hardwareInterface>
      <mechanicalReduction>1</mechanicalReduction>
    </actuator>
  </transmission>
  <gazebo reference="/neck">
    <kp>1000000000000000.0</kp>
    <kd>10000000000000.0</kd>
    <mu1>0.2</mu1>
    <mu2>0.2</mu2>
  </gazebo>
  <gazebo reference="/head">
    <kp>1000000000000000.0</kp>
    <kd>10000000000000.0</kd>
    <mu1>0.2</mu1>
    <mu2>0.2</mu2>
  </gazebo>
  <link name="/imu_link">
    <inertial>
      <mass value="0.01"/>
      <origin rpy="0  0  0" xyz="0 0 0"/>
      <inertia ixx="1e-9" ixy="0" ixz="0" iyy="1e-9" iyz="0" izz="1e-9"/>
    </inertial>
  </link>
  <joint name="/torso_imu" type="fixed">
    <parent link="/torso"/>
    <child link="/imu_link"/>
    <origin rpy="0 0 0" xyz="0.0 0 0.0"/>
    <axis xyz="0 0 0"/>
  </joint>
  <gazebo reference="/imu_link">
    <gravity>true</gravity>
    <sensor name="imu_sensor" type="imu">
      <always_on>true</always_on>
      <update_rate>100</update_rate>
      <visualize>true</visualize>
      <topic>__default_topic__</topic>
      <plugin filename="libgazebo_ros_imu_sensor.so" name="imu_plugin">
        <topicName>imu_raw</topicName>
        <bodyName>imu_link</bodyName>
        <updateRateHZ>50.0</updateRateHZ>
        <gaussianNoise>0.0</gaussianNoise>
        <xyzOffset>0 0 0</xyzOffset>
        <rpyOffset>0 0 0</rpyOffset>
        <frameName>imu_link</frameName>
      </plugin>
      <pose>0 0 0 0 0 0</pose>
    </sensor>
  </gazebo>
  <gazebo reference="/imu_link">
    <kp>1000000000000000.0</kp>
    <kd>10000000000000.0</kd>
    <mu1>0.2</mu1>
    <mu2>0.2</mu2>
  </gazebo>
  <link name="/camera">
    <inertial>
      <mass value="0.01"/>
      <origin rpy="0  0  0" xyz="0 0 0"/>
      <inertia ixx="1e-9" ixy="0" ixz="0" iyy="1e-9" iyz="0" izz="1e-9"/>
    </inertial>
  </link>
  <joint name="/head_camera" type="fixed">
    <parent link="/head"/>
    <child link="/camera"/>
    <origin rpy="0 0 0" xyz="0.015 0.00145 0.04740"/>
    <axis xyz="0  0  0"/>
    <dynamics damping="0.01" friction="0.1"/>
    <limit effort="0" lower="0" upper="0" velocity="0"/>
  </joint>
  <gazebo reference="/camera">
    <sensor name="main_camera" type="camera">
      <always_on>1</always_on>
      <visualize>1</visualize>
      <update_rate>30</update_rate>
      <camera>
        <horizontal_fov>1.39626</horizontal_fov>
        <image>
          <width>640</width>
          <height>480</height>
          <format>R8G8B8</format>
        </image>
        <clip>
          <near>0.2</near>
          <far>10</far>
        </clip>
        <noise>
          <type>gaussian</type>
          <mean>0</mean>
          <stddev>0.007</stddev>
        </noise>
      </camera>
      <plugin filename="libgazebo_ros_camera.so" name="camera_controller">
        <alwaysOn>true</alwaysOn>
        <updateRate>0.0</updateRate>
        <cameraName>camera</cameraName>
        <imageTopicName>image_raw</imageTopicName>
        <cameraInfoTopicName>camera_info</cameraInfoTopicName>
        <frameName>camera_link</frameName>
        <hackBaseline>0.07</hackBaseline>
        <distortionK1>0.0</distortionK1>
        <distortionK2>0.0</distortionK2>
        <distortionK3>0.0</distortionK3>
        <distortionT1>0.0</distortionT1>
        <distortionT2>0.0</distortionT2>
      </plugin>
    </sensor>
  </gazebo>
  <gazebo reference="/camera">
    <kp>1000000000000000.0</kp>
    <kd>10000000000000.0</kd>
    <mu1>0.2</mu1>
    <mu2>0.2</mu2>
  </gazebo>
  <gazebo>
    <plugin filename="libgazebo_ros_control.so" name="gazebo_ros_control">
      <robotNamespace>/</robotNamespace>
      <robotSimType>gazebo_ros_control/DefaultRobotHWSim</robotSimType>
    </plugin>
    <plugin filename="libgazebo_ros_p3d.so" name="p3d_base_controller">
      <alwaysOn>true</alwaysOn>
      <updateRate>50.0</updateRate>
      <bodyName>base_footprint</bodyName>
      <topicName>odom_ground_truth</topicName>
      <gaussianNoise>0.01</gaussianNoise>
      <frameName>world</frameName>
      <xyzOffsets>0 0 0</xyzOffsets>
      <rpyOffsets>0 0 0</rpyOffsets>
    </plugin>
  </gazebo>
  <gazebo reference="/torso">
    <kp>1000000000000000.0</kp>
    <kd>10000000000000.0</kd>
    <mu1>0.2</mu1>
    <mu2>0.2</mu2>
  </gazebo>
</robot>
